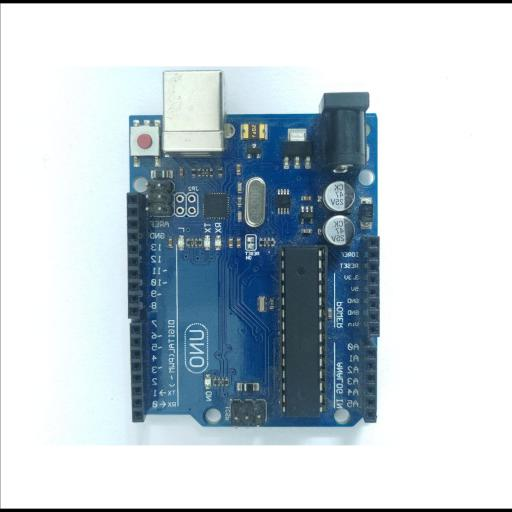Arduino Uno R3: (125, 71, 381, 429)
